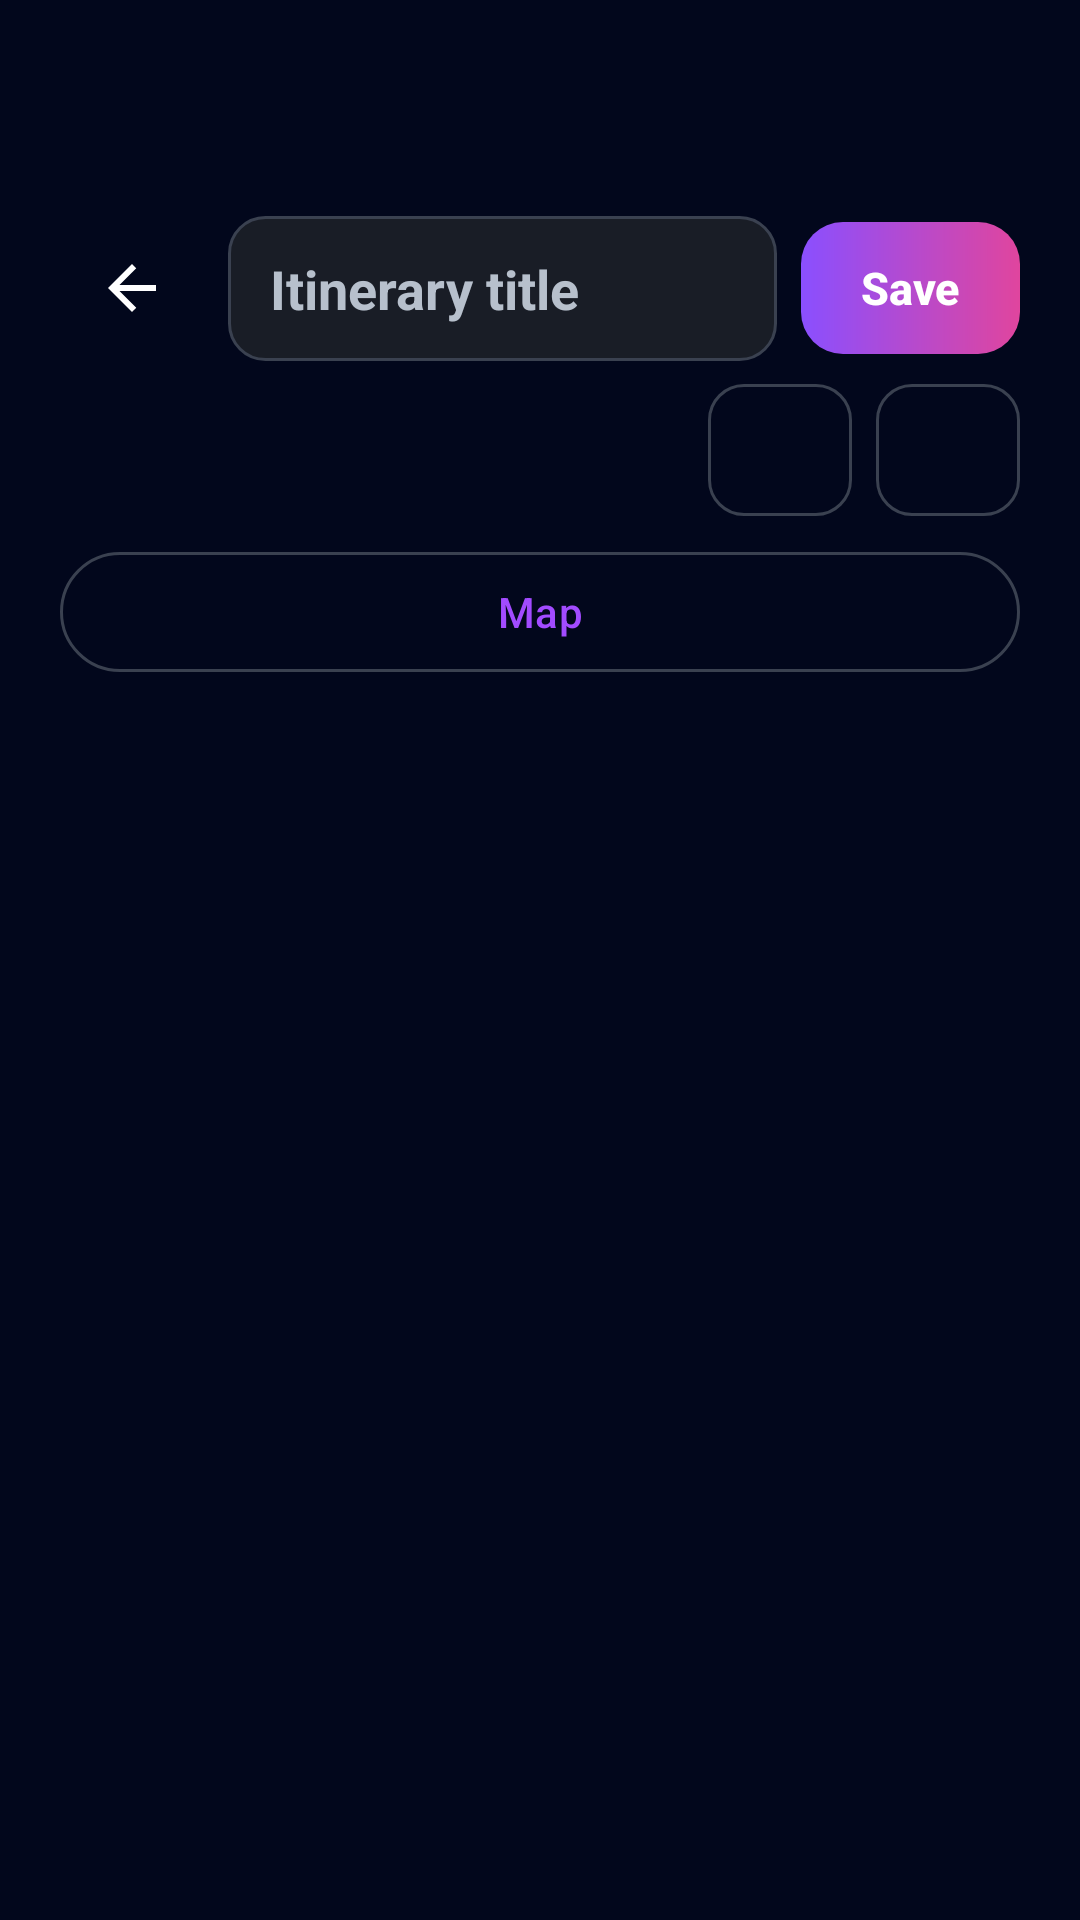

Point at icon controls on the screen. Image size 1080w x 1920h, points as point (x, y).
Back: point (132, 288)
